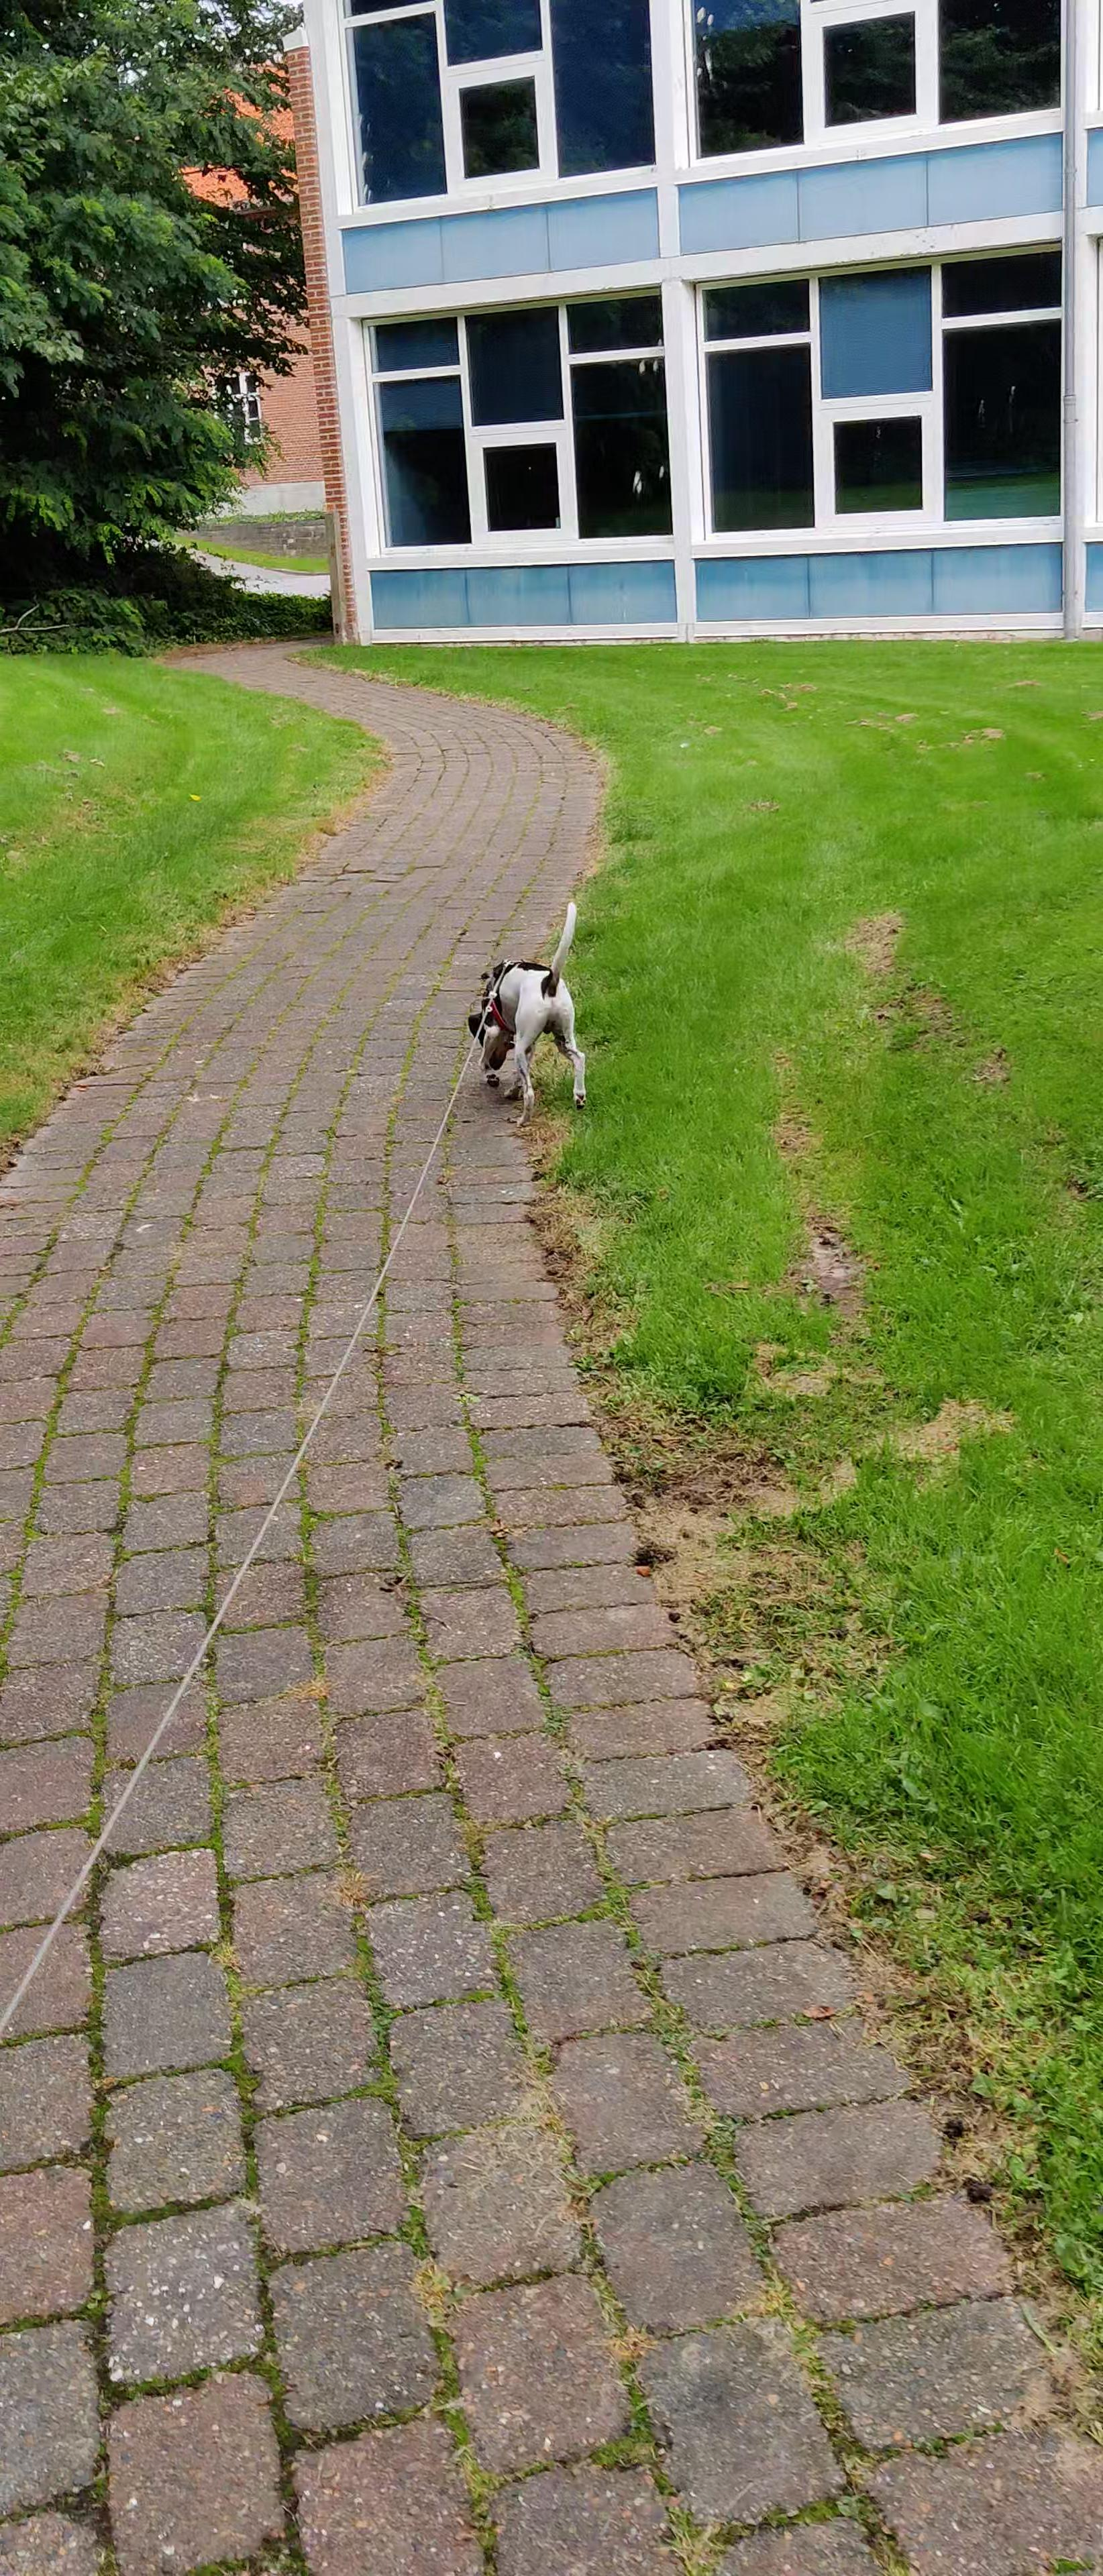Dog: (455, 892, 600, 1127)
